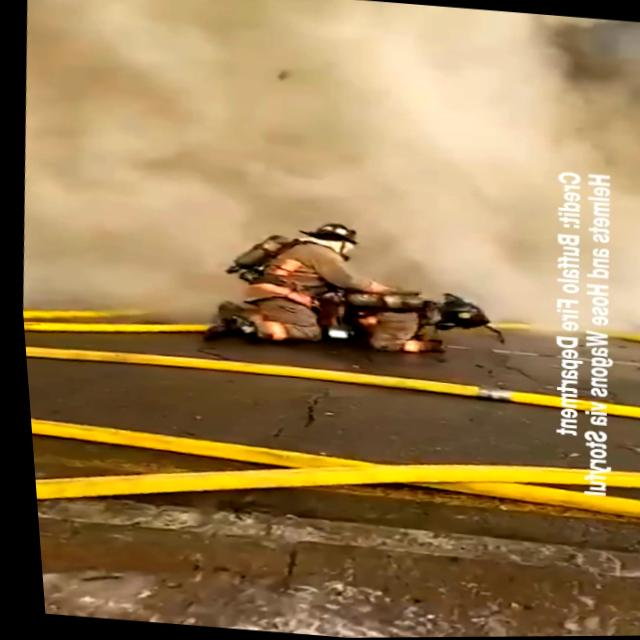no_helmet: (6, 0, 556, 352)
